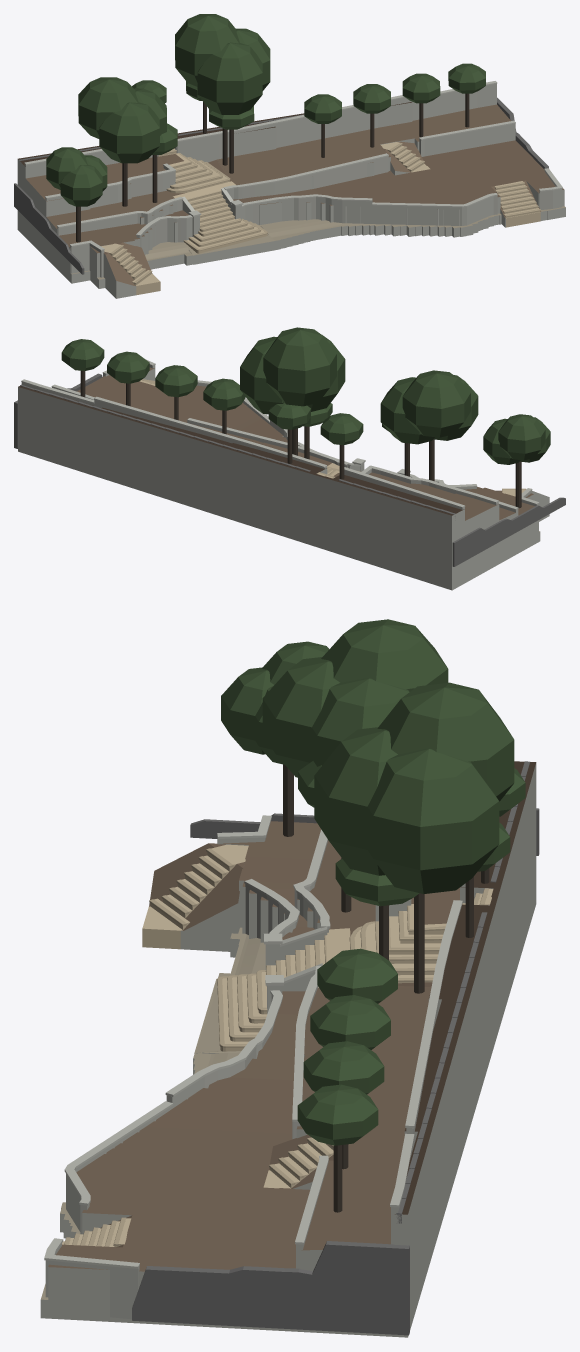
File: reconstruction-d55e161fc36a.glb
The picture shows the model from 3 angles, top to bottom: view 1: azimuth 30°, elevation 25°; view 2: azimuth 150°, elevation 25°; view 3: azimuth 270°, elevation 25°; orthographic projection. The views are drawn at different scales.
Visible parts, largest first — view 1: ground-terraces, planting-tree-03, wall-wa, planting-tree-01, wall-wb, wall-we, planting-tree-07, flight-w1, flight-m1, nosing-m1, coping-wa, coping-wb (+18 smaller); view 2: ground-terraces, planting-tree-03, planting-tree-01, planting-tree-07, slot-filler-west, coping-we, planting-tree-06, planting-tree-11, planting-tree-09, planting-tree-10, wall-we, planting-tree-08 (+12 smaller); view 3: ground-terraces, planting-tree-03, slot-filler-east, planting-tree-01, flight-w1, planting-tree-07, wall-wa, coping-wa, planting-tree-11, coping-wb, planting-tree-10, planting-tree-08 (+12 smaller).
Boxes of the visible parts, left/top/right/bottom form: ground-terraces: left=17, top=102, right=565, bottom=288; planting-tree-03: left=175, top=14, right=270, bottom=165; wall-wa: left=70, top=171, right=562, bottom=277; planting-tree-01: left=78, top=77, right=166, bottom=206; wall-wb: left=57, top=123, right=515, bottom=235; wall-we: left=177, top=83, right=496, bottom=161; planting-tree-07: left=46, top=147, right=107, bottom=242; flight-w1: left=101, top=242, right=160, bottom=298; flight-m1: left=174, top=189, right=267, bottom=253; nosing-m1: left=183, top=190, right=267, bottom=250; coping-wa: left=69, top=168, right=562, bottom=250; coping-wb: left=57, top=120, right=515, bottom=227; ground-terraces: left=18, top=367, right=540, bottom=590; planting-tree-03: left=240, top=327, right=345, bottom=455; planting-tree-01: left=380, top=370, right=478, bottom=481; planting-tree-07: left=483, top=414, right=550, bottom=508; slot-filler-west: left=452, top=497, right=565, bottom=566; coping-we: left=21, top=379, right=327, bottom=467; planting-tree-06: left=320, top=413, right=363, bottom=479; planting-tree-11: left=61, top=339, right=104, bottom=397; planting-tree-09: left=155, top=365, right=197, bottom=420; planting-tree-10: left=107, top=351, right=149, bottom=406; wall-we: left=21, top=382, right=326, bottom=468; planting-tree-08: left=203, top=378, right=245, bottom=434; ground-terraces: left=40, top=761, right=536, bottom=1337; planting-tree-03: left=314, top=682, right=514, bottom=993; slot-filler-east: left=132, top=1241, right=409, bottom=1335; planting-tree-01: left=262, top=619, right=448, bottom=777; flight-w1: left=142, top=843, right=248, bottom=951; planting-tree-07: left=221, top=641, right=329, bottom=836; wall-wa: left=45, top=837, right=298, bottom=1319; coping-wa: left=44, top=815, right=299, bottom=1268; planting-tree-11: left=297, top=1084, right=378, bottom=1212; coping-wb: left=292, top=829, right=330, bottom=1244; planting-tree-10: left=303, top=1041, right=384, bottom=1169; planting-tree-08: left=317, top=948, right=397, bottom=1003.
Size of the model in its own units: 32.12 by 12.28 by 14.57.
